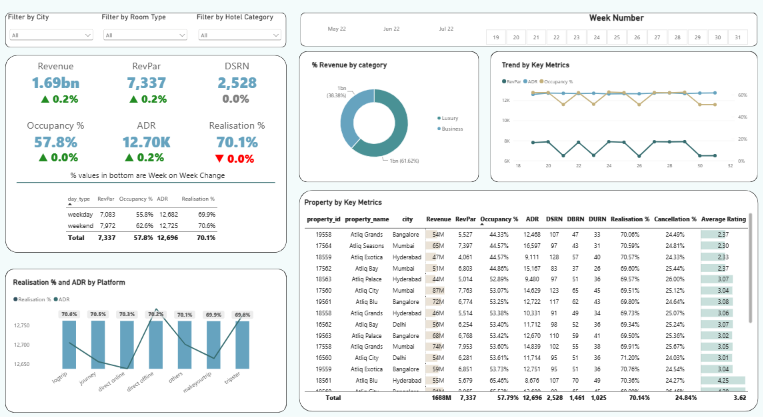

What the dashboard file says about the page in this screenshot:
{"tool":"powerbi","page":{"name":"Page 1","canvas":[1920,1080],"ordinal":1},"visuals":[{"type":"shape","box":[758.6,52.9,1138.6,84.3],"z":0},{"type":"shape","box":[758,496,1144,552],"z":1000},{"type":"shape","box":[24.9,691.4,700.7,358.1],"z":2000},{"type":"shape","box":[25.7,51.4,700,87.1],"z":3000},{"type":"shape","box":[1234,150,666,326],"z":4000},{"type":"shape","box":[758,150,448,326],"z":5000},{"type":"tableEx","title":"Property by Key Metrics","fields":{"Values":["dim_hotels.property_id","dim_hotels.property_name","dim_hotels.city","key_measures.Revenue","key_measures.RevPar","key_measures.Occupancy %","key_measures.ADR","key_measures.DSRN","key_measures.DBRN","key_measures.DURN","key_measures.Realisation %","key_measures.Cancellation %"]},"box":[754,500,1148,540],"z":6000},{"type":"slicer","title":"Filter by City","fields":{"Values":["dim_hotels.city"]},"box":[31.4,54.3,217.1,81.4],"z":7000},{"type":"slicer","title":"Filter by Room Type","fields":{"Values":["dim_rooms.room_class"]},"box":[265.7,54.3,218.6,81.4],"z":8000},{"type":"slicer","title":"Week Number","fields":{"Values":["dim_date.wn"]},"box":[1202.9,52.9,691.4,81.4],"z":9000},{"type":"slicer","fields":{"Values":["dim_date.mmm yy"]},"box":[764.3,57.1,447.1,74.3],"z":10000},{"type":"donutChart","title":"% Revenue by category","fields":{"Category":["dim_hotels.category"],"Y":["key_measures.Revenue"]},"box":[772,160,418,304],"z":11000},{"type":"lineChart","title":"Trend by Key Metrics","fields":{"Category":["dim_date.wn"],"Y":["key_measures.RevPar","key_measures.ADR"],"Y2":["key_measures.Occupancy %"]},"box":[1246,160,644,304],"z":12000},{"type":"shape","box":[24.9,158.8,700.7,492],"z":13000},{"type":"cardVisual","fields":{"Data":["key_measures.wow_revenue_change"]},"box":[78,234.6,164.7,66.6],"z":13000,"group":"g1"},{"type":"cardVisual","fields":{"Data":["key_measures.wow_RevPar_change"]},"box":[303.7,234.5,157.1,67.1],"z":14000,"group":"g1"},{"type":"tableEx","fields":{"Values":["dim_date.day_type","key_measures.RevPar","key_measures.Occupancy %","key_measures.ADR","key_measures.Realisation %"]},"box":[158,488,470,162],"z":14000},{"type":"cardVisual","fields":{"Data":["key_measures.wow_occupancy_change"]},"box":[72.9,384.7,170,52.5],"z":15000,"group":"g2"},{"type":"lineStackedColumnComboChart","title":"Realisation % and ADR by Platform","fields":{"Category":["fact_bookings.booking_platform"],"Y":["key_measures.Realisation %"],"Y2":["key_measures.ADR"]},"box":[28,700.7,694.5,339.4],"z":15000},{"type":"cardVisual","fields":{"Data":["key_measures.Revenue","key_measures.RevPar","key_measures.DSRN","key_measures.Occupancy %","key_measures.ADR","key_measures.Realisation %"]},"box":[36,138,680,294],"z":16000},{"type":"cardVisual","fields":{"Data":["key_measures.wow_DSRN_change"]},"box":[513.7,238,171.4,58.6],"z":16000,"group":"g1"},{"type":"slicer","title":"Filter by Hotel Category","fields":{"Values":["dim_hotels.category"]},"box":[502.9,52.9,215.7,81.4],"z":17000},{"type":"cardVisual","fields":{"Data":["key_measures.wow_ADR_change"]},"box":[295.1,385.3,157,52.3],"z":17000,"group":"g2"},{"type":"group","id":"g1","title":"Group 1","box":[78,234.5,607.2,67.1],"z":18000},{"type":"cardVisual","fields":{"Data":["key_measures.wow_Realisation_change"]},"box":[513.5,388.1,170.8,52.3],"z":18000,"group":"g2"},{"type":"group","id":"g2","title":"Group 2","box":[72.9,384.7,611.4,55.8],"z":19000},{"type":"shape","box":[52,466,644,18],"z":20000},{"type":"textbox","box":[186,446,416,54],"z":21000}]}

Visuals, with their boxes in screenshot pixels (x1, y1, x2, y2), scaled from the page's 1920x1080 canvas onto the 763x417 screenshot:
shape: locate(301, 20, 754, 53)
shape: locate(301, 192, 756, 405)
shape: locate(10, 267, 288, 405)
shape: locate(10, 20, 288, 53)
shape: locate(490, 58, 755, 184)
shape: locate(301, 58, 479, 184)
"Property by Key Metrics" tableEx: locate(300, 193, 756, 402)
"Filter by City" slicer: locate(12, 21, 99, 52)
"Filter by Room Type" slicer: locate(106, 21, 192, 52)
"Week Number" slicer: locate(478, 20, 753, 52)
slicer - dim_date.mmm yy: locate(304, 22, 481, 51)
"% Revenue by category" donutChart: locate(307, 62, 473, 179)
"Trend by Key Metrics" lineChart: locate(495, 62, 751, 179)
shape: locate(10, 61, 288, 251)
cardVisual - key_measures.wow_revenue_change: locate(31, 91, 96, 116)
cardVisual - key_measures.wow_RevPar_change: locate(121, 91, 183, 116)
tableEx - dim_date.day_type x key_measures.RevPar: locate(63, 188, 250, 251)
cardVisual - key_measures.wow_occupancy_change: locate(29, 149, 97, 169)
"Realisation % and ADR by Platform" lineStackedColumnComboChart: locate(11, 271, 287, 402)
cardVisual - key_measures.Revenue x key_measures.RevPar: locate(14, 53, 285, 167)
cardVisual - key_measures.wow_DSRN_change: locate(204, 92, 272, 115)
"Filter by Hotel Category" slicer: locate(200, 20, 286, 52)
cardVisual - key_measures.wow_ADR_change: locate(117, 149, 180, 169)
"Group 1" group: locate(31, 91, 272, 116)
cardVisual - key_measures.wow_Realisation_change: locate(204, 150, 272, 170)
"Group 2" group: locate(29, 149, 272, 170)
shape: locate(21, 180, 277, 187)
textbox: locate(74, 172, 239, 193)
